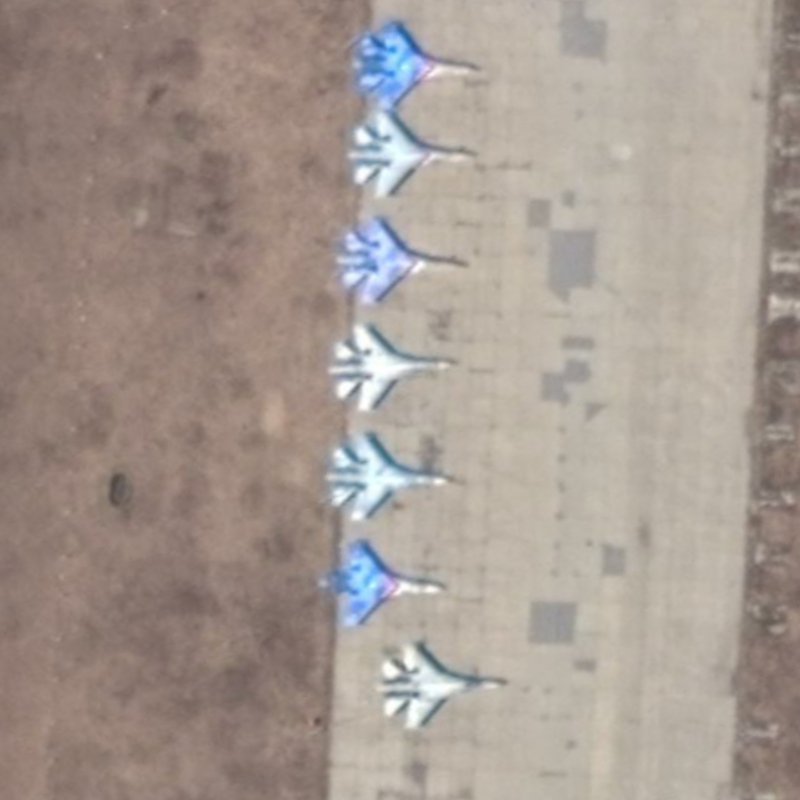A1: (333, 212, 472, 310), (347, 16, 485, 114), (326, 320, 460, 415), (315, 534, 446, 630), (322, 427, 453, 522), (344, 109, 477, 202), (373, 639, 506, 732)
